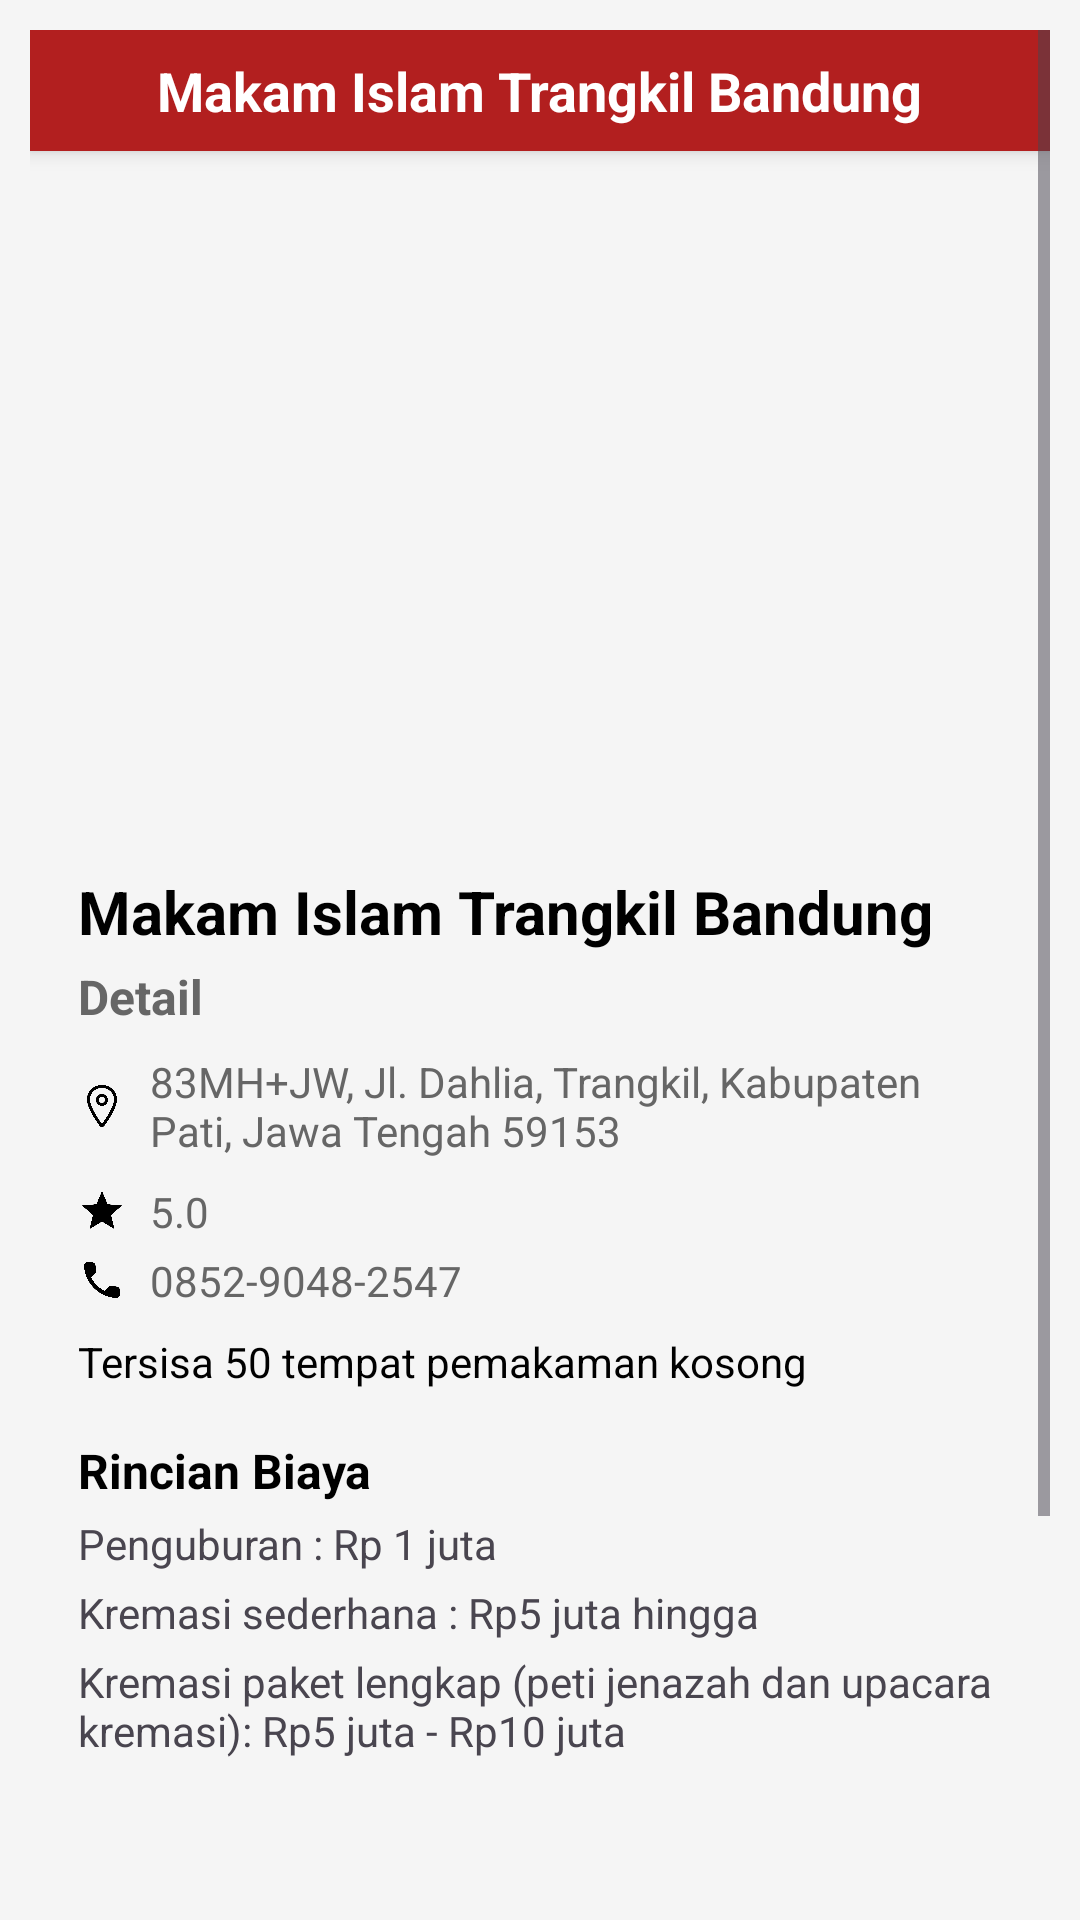

Named icons in this screenshot (1080 x 1920) and their bounding boxes, (x1, y1, x2, y2):
iclocation: (87, 1085, 117, 1127)
icphone: (84, 1262, 120, 1298)
icstar: (82, 1192, 122, 1229)
